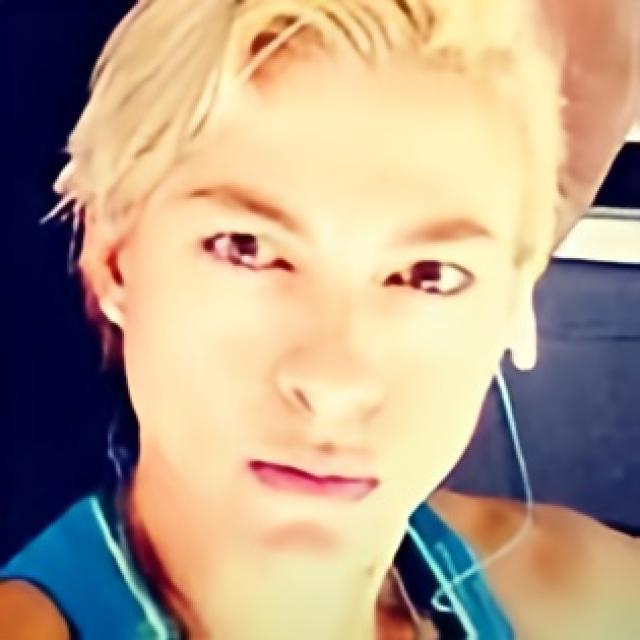anger: (128, 34, 514, 582)
